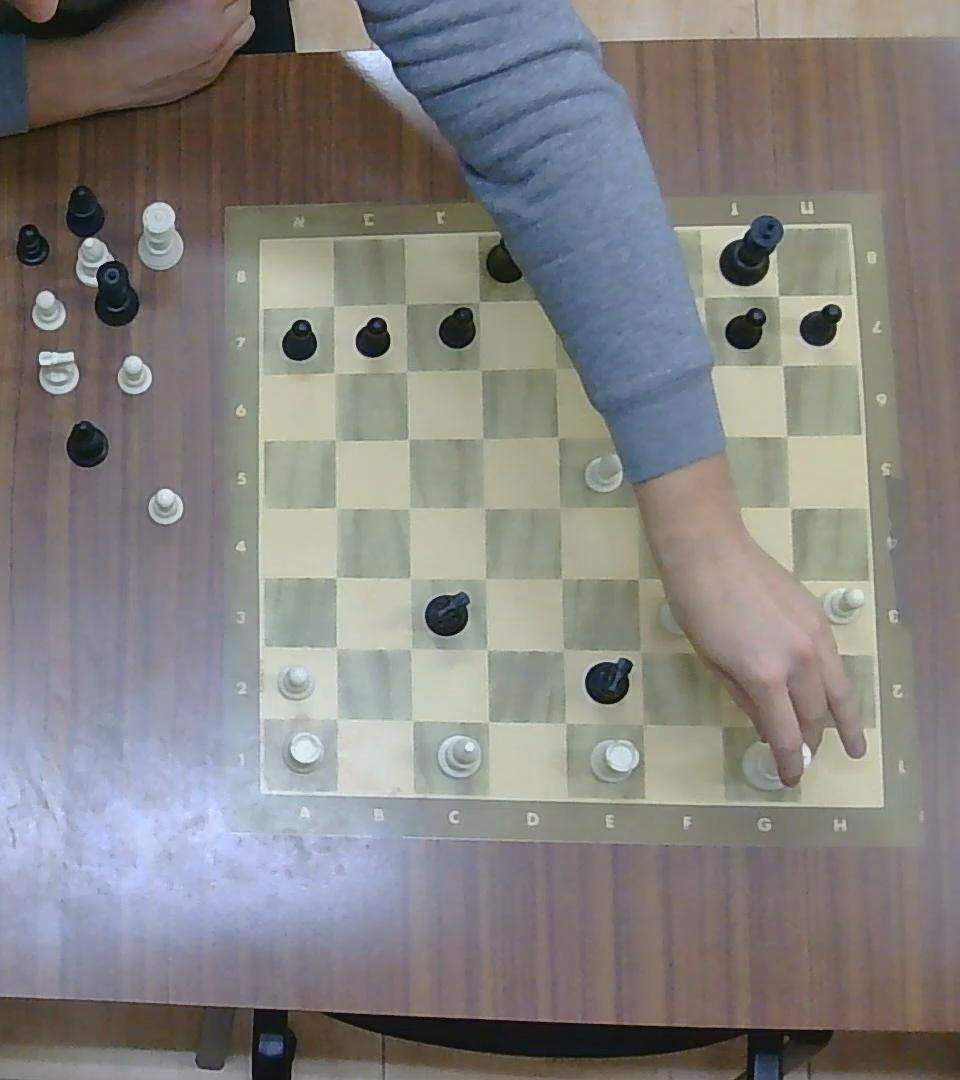xcorner: (619, 420, 653, 453), (626, 705, 658, 739), (784, 710, 815, 744), (777, 564, 809, 596), (396, 702, 427, 735), (705, 707, 736, 740), (548, 706, 579, 738), (471, 704, 502, 736), (470, 633, 501, 665), (320, 701, 351, 733), (625, 633, 656, 665), (700, 633, 730, 665), (624, 561, 654, 592), (320, 561, 350, 592), (547, 634, 578, 664), (470, 563, 500, 594), (320, 632, 350, 663), (547, 563, 577, 594), (776, 491, 806, 521), (782, 636, 812, 666), (545, 492, 574, 523), (694, 350, 723, 381), (395, 634, 424, 664), (543, 351, 572, 381), (623, 491, 652, 521), (700, 563, 728, 594), (612, 281, 640, 312), (470, 493, 499, 522), (395, 562, 423, 591), (322, 493, 350, 522), (393, 424, 422, 452), (467, 422, 495, 451), (538, 284, 566, 313), (689, 282, 717, 311), (395, 492, 423, 520), (545, 423, 573, 450), (320, 425, 348, 452), (467, 354, 495, 381), (318, 291, 346, 318), (320, 359, 348, 386), (626, 351, 652, 380), (703, 491, 729, 520), (465, 287, 493, 313), (392, 356, 419, 382), (708, 421, 733, 449), (393, 289, 419, 314), (766, 282, 791, 307), (773, 423, 799, 447), (771, 351, 795, 377)
